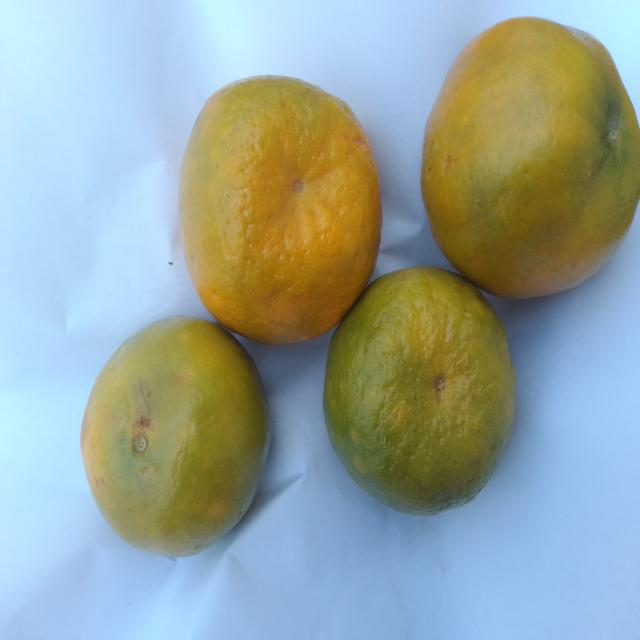orange: (422, 18, 639, 297), (180, 77, 381, 343), (324, 268, 515, 514), (82, 317, 269, 555)
